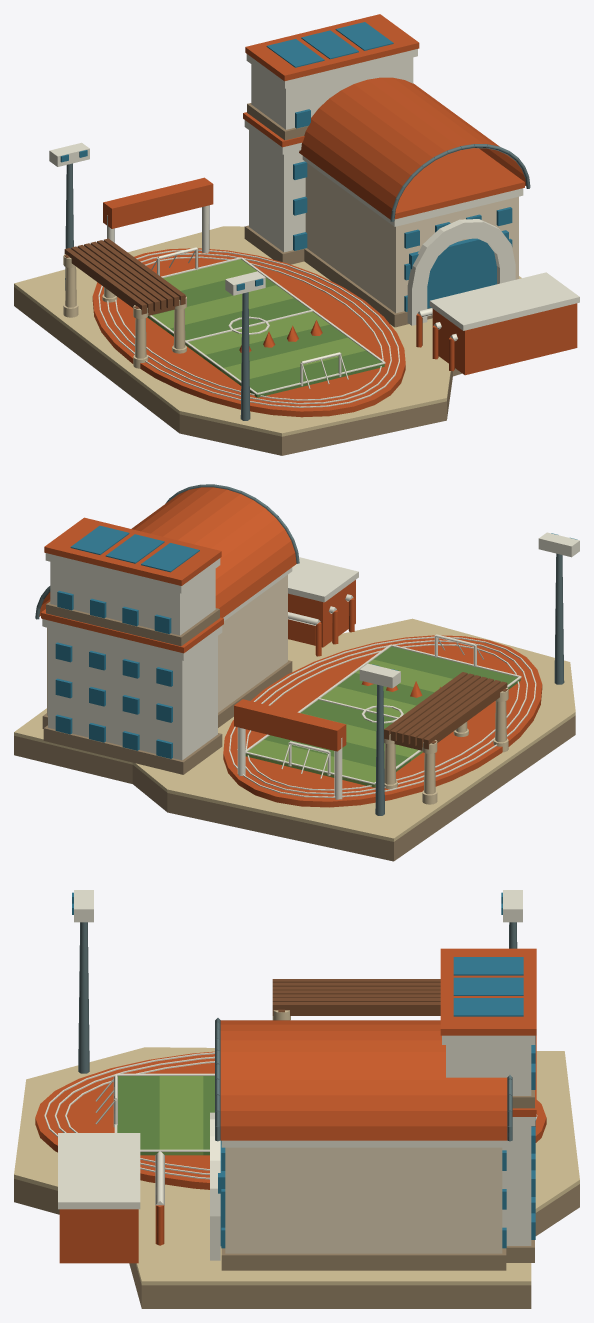
The model's file is training-center-lv4.glb.
3 views of the same model, one above another, from view 1: azimuth 30°, elevation 25°; view 2: azimuth 150°, elevation 25°; view 3: azimuth 270°, elevation 25° (orthographic). The views are drawn at different scales.
Parts seen in each view (by area): view 1: running_track_orange, gym_barrel_roof_orange, foundation_sand, training_hall_cream, foundation_stoneDark, pitch_grassLight, pitch_grass, equipment_platform_orange, performance_upper_floor_white, performance_block_white, training_hall_roof_orange, equipment_platform_white (+20 smaller); view 2: foundation_sand, running_track_orange, performance_block_white, foundation_stoneDark, gym_barrel_roof_orange, performance_upper_floor_white, training_hall_cream, pitch_grass, pitch_grassLight, coaching_shelter_wood, performance_upper_floor_roof_orange, running_lanes_white (+18 smaller); view 3: gym_barrel_roof_orange, training_hall_cream, foundation_sand, foundation_stoneDark, running_track_orange, equipment_platform_white, coaching_shelter_wood, training_hall_stoneDark, performance_upper_floor_roof_orange, equipment_platform_orange, performance_upper_floor_white, solar_panels_glass (+12 smaller).
Part boxes in pixels (x1,y1,x2,y2): running_track_orange: (92,248,405,417); gym_barrel_roof_orange: (299,77,526,219); foundation_sand: (14,226,521,436); training_hall_cream: (305,163,518,313); foundation_stoneDark: (14,287,461,455); pitch_grassLight: (149,259,365,384); pitch_grass: (147,277,384,397); equipment_platform_orange: (432,303,577,375); performance_upper_floor_white: (246,49,417,129); performance_block_white: (244,120,305,252); training_hall_roof_orange: (394,148,524,219); equipment_platform_white: (429,272,579,330); foundation_sand: (14,618,575,841); running_track_orange: (223,635,542,807); performance_block_white: (43,619,222,760); foundation_stoneDark: (14,715,575,861); gym_barrel_roof_orange: (39,487,296,617); performance_upper_floor_white: (45,553,220,635); training_hall_cream: (47,575,287,715); pitch_grass: (264,646,520,771); pitch_grassLight: (245,659,452,787); coaching_shelter_wood: (384,672,507,750); performance_upper_floor_roof_orange: (44,517,221,585); running_lanes_white: (229,636,536,797); gym_barrel_roof_orange: (220,1020,507,1140); training_hall_cream: (225,1147,502,1253); foundation_sand: (14,1047,579,1285); foundation_stoneDark: (14,1179,579,1308); running_track_orange: (35,1051,546,1189); equipment_platform_white: (58,1133,140,1209); coaching_shelter_wood: (272,979,440,1015); training_hall_stoneDark: (221,1248,506,1270); performance_upper_floor_roof_orange: (440,948,536,1035); equipment_platform_orange: (59,1209,138,1263); performance_upper_floor_white: (442,1035,535,1095); solar_panels_glass: (453,957,523,1016).
Size of the model in its own units: 0.9785 by 0.5113 by 1.
